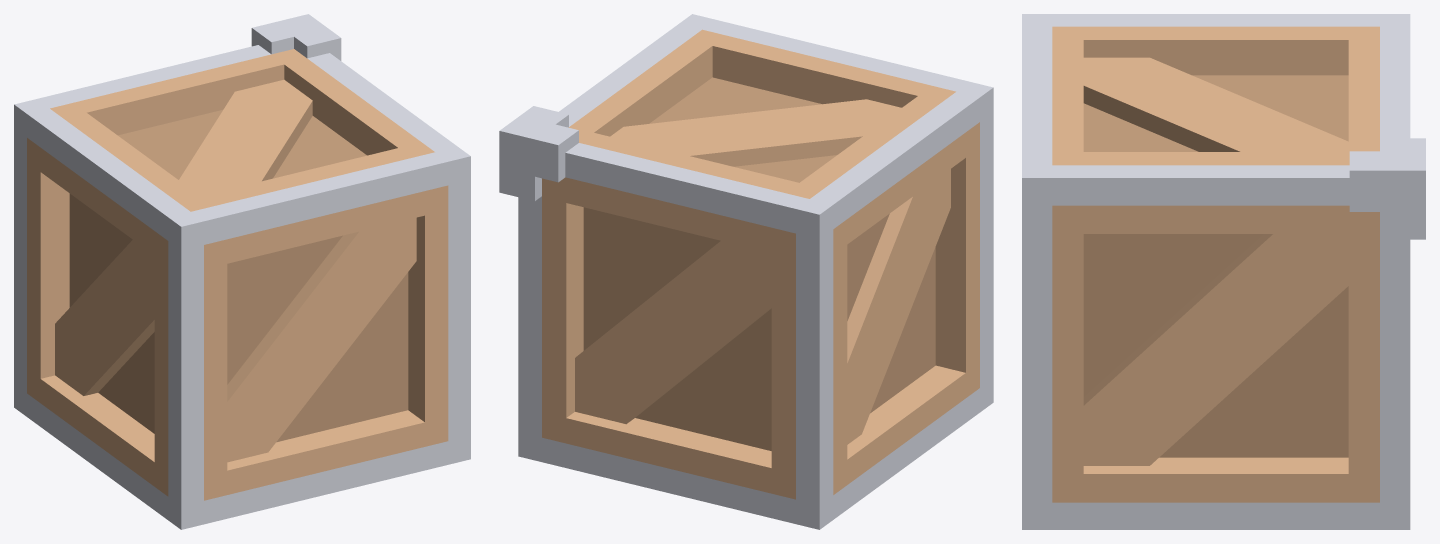
File: cratestrong.glb
3 views of the same model, side by side, from view 1: azimuth 30°, elevation 25°; view 2: azimuth 150°, elevation 25°; view 3: azimuth 270°, elevation 25° (orthographic). The views are drawn at different scales.
Parts seen in each view (by area): view 1: crateStrong(Clone); view 2: crateStrong(Clone); view 3: crateStrong(Clone).
Boxes of the visible parts, x1=… form: crateStrong(Clone): x1=14, y1=14, x2=470, y2=529; crateStrong(Clone): x1=499, y1=14, x2=993, y2=529; crateStrong(Clone): x1=1022, y1=14, x2=1425, y2=529.
Bounding box in the file's own units: 0.52 × 0.52 × 0.52.
